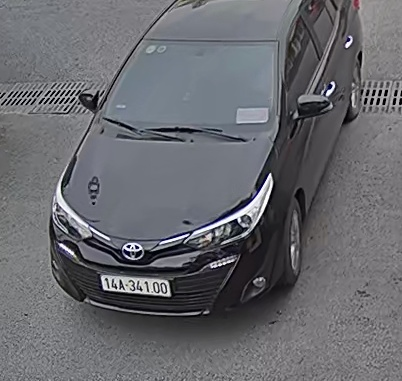vehicle plate: (100, 269, 175, 296)
